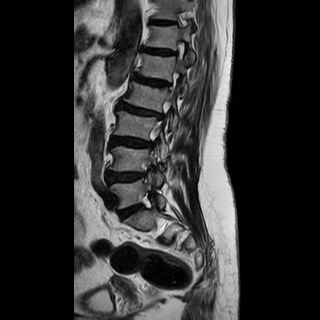LFS0: (135, 185, 157, 215)
